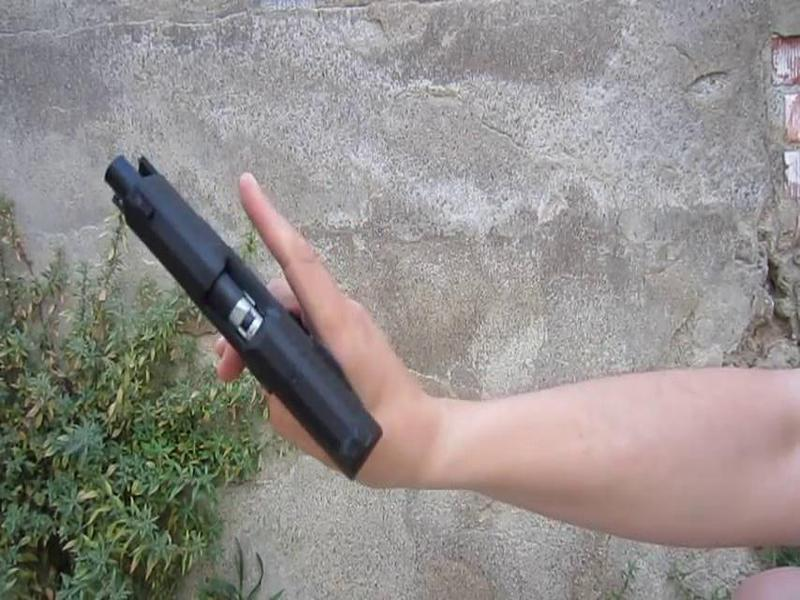Pistola: (84, 137, 408, 503)
